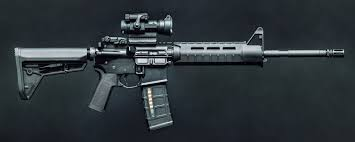gun: (14, 11, 344, 132)
